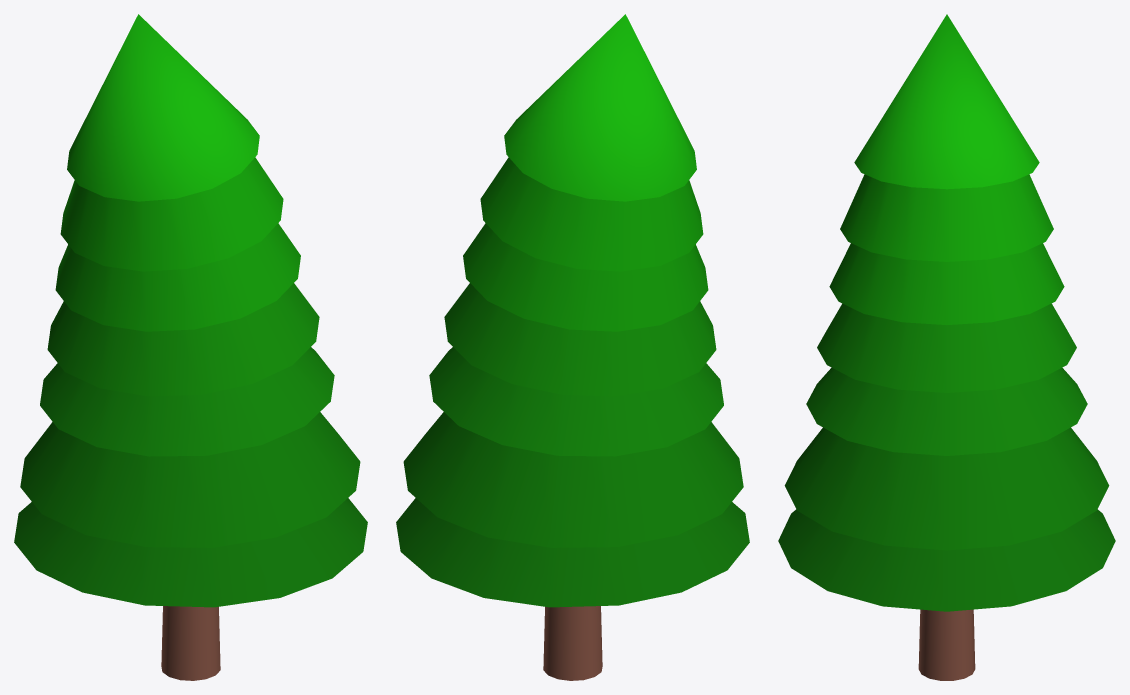
File: Spruce_Cold_Green_4.fbx
3 views of the same model, side by side, from view 1: azimuth 30°, elevation 25°; view 2: azimuth 150°, elevation 25°; view 3: azimuth 270°, elevation 25° (orthographic). The views are drawn at different scales.
Parts seen in each view (by area): view 1: Cylinder.988, Cylinder.987, Cylinder.989, Cylinder.986, Cylinder.984, Cylinder.991, Cylinder.985, Cylinder.990; view 2: Cylinder.988, Cylinder.987, Cylinder.989, Cylinder.986, Cylinder.984, Cylinder.991, Cylinder.985, Cylinder.990; view 3: Cylinder.988, Cylinder.989, Cylinder.987, Cylinder.986, Cylinder.984, Cylinder.991, Cylinder.985, Cylinder.990.
Boxes of the visible parts, left/top/right/bottom form: Cylinder.988: left=20, top=412, right=360, bottom=547; Cylinder.987: left=67, top=14, right=259, bottom=201; Cylinder.989: left=14, top=498, right=367, bottom=607; Cylinder.986: left=40, top=347, right=334, bottom=456; Cylinder.984: left=47, top=283, right=319, bottom=396; Cylinder.991: left=60, top=157, right=283, bottom=271; Cylinder.985: left=55, top=223, right=300, bottom=331; Cylinder.990: left=161, top=606, right=220, bottom=680; Cylinder.988: left=403, top=412, right=743, bottom=547; Cylinder.987: left=504, top=14, right=696, bottom=201; Cylinder.989: left=396, top=498, right=749, bottom=607; Cylinder.986: left=429, top=347, right=723, bottom=456; Cylinder.984: left=444, top=283, right=716, bottom=396; Cylinder.991: left=480, top=157, right=703, bottom=271; Cylinder.985: left=463, top=223, right=708, bottom=331; Cylinder.990: left=543, top=606, right=602, bottom=680; Cylinder.988: left=784, top=427, right=1109, bottom=550; Cylinder.989: left=778, top=509, right=1115, bottom=611; Cylinder.987: left=854, top=14, right=1039, bottom=189; Cylinder.986: left=806, top=367, right=1087, bottom=455; Cylinder.984: left=817, top=303, right=1076, bottom=392; Cylinder.991: left=840, top=174, right=1053, bottom=261; Cylinder.985: left=829, top=243, right=1064, bottom=324; Cylinder.990: left=918, top=609, right=975, bottom=680.
Bounding box in the file's own units: 276 × 569 × 276.
